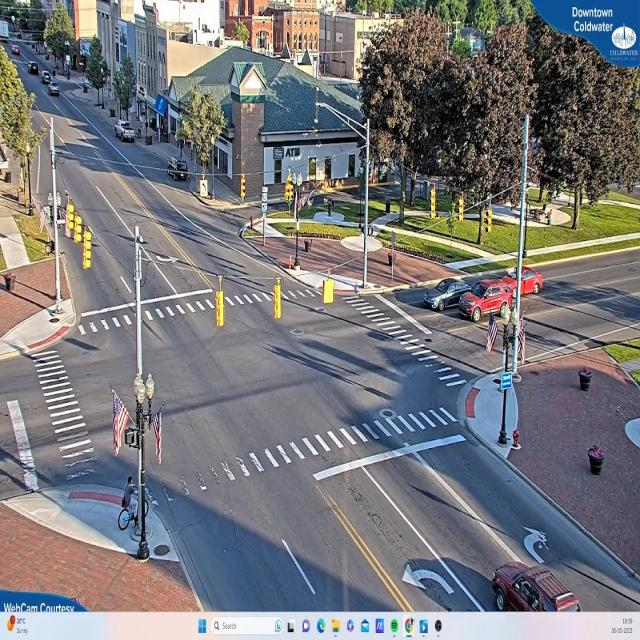car: (486, 556, 572, 611), (460, 280, 511, 320), (506, 262, 552, 296), (424, 276, 466, 312), (166, 160, 190, 180), (116, 123, 136, 143)
